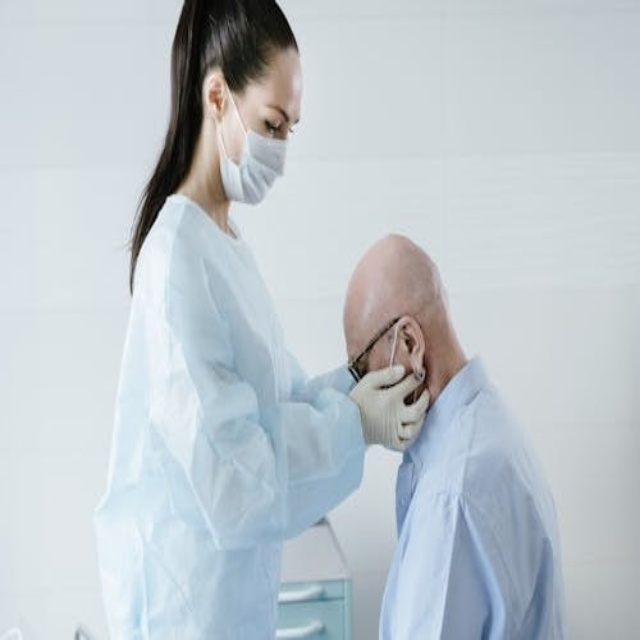Gafas: (347, 316, 417, 387)
Guantes: (349, 361, 429, 454)
Mascara: (215, 88, 288, 205)
Sin_gafas: (251, 99, 303, 144)
